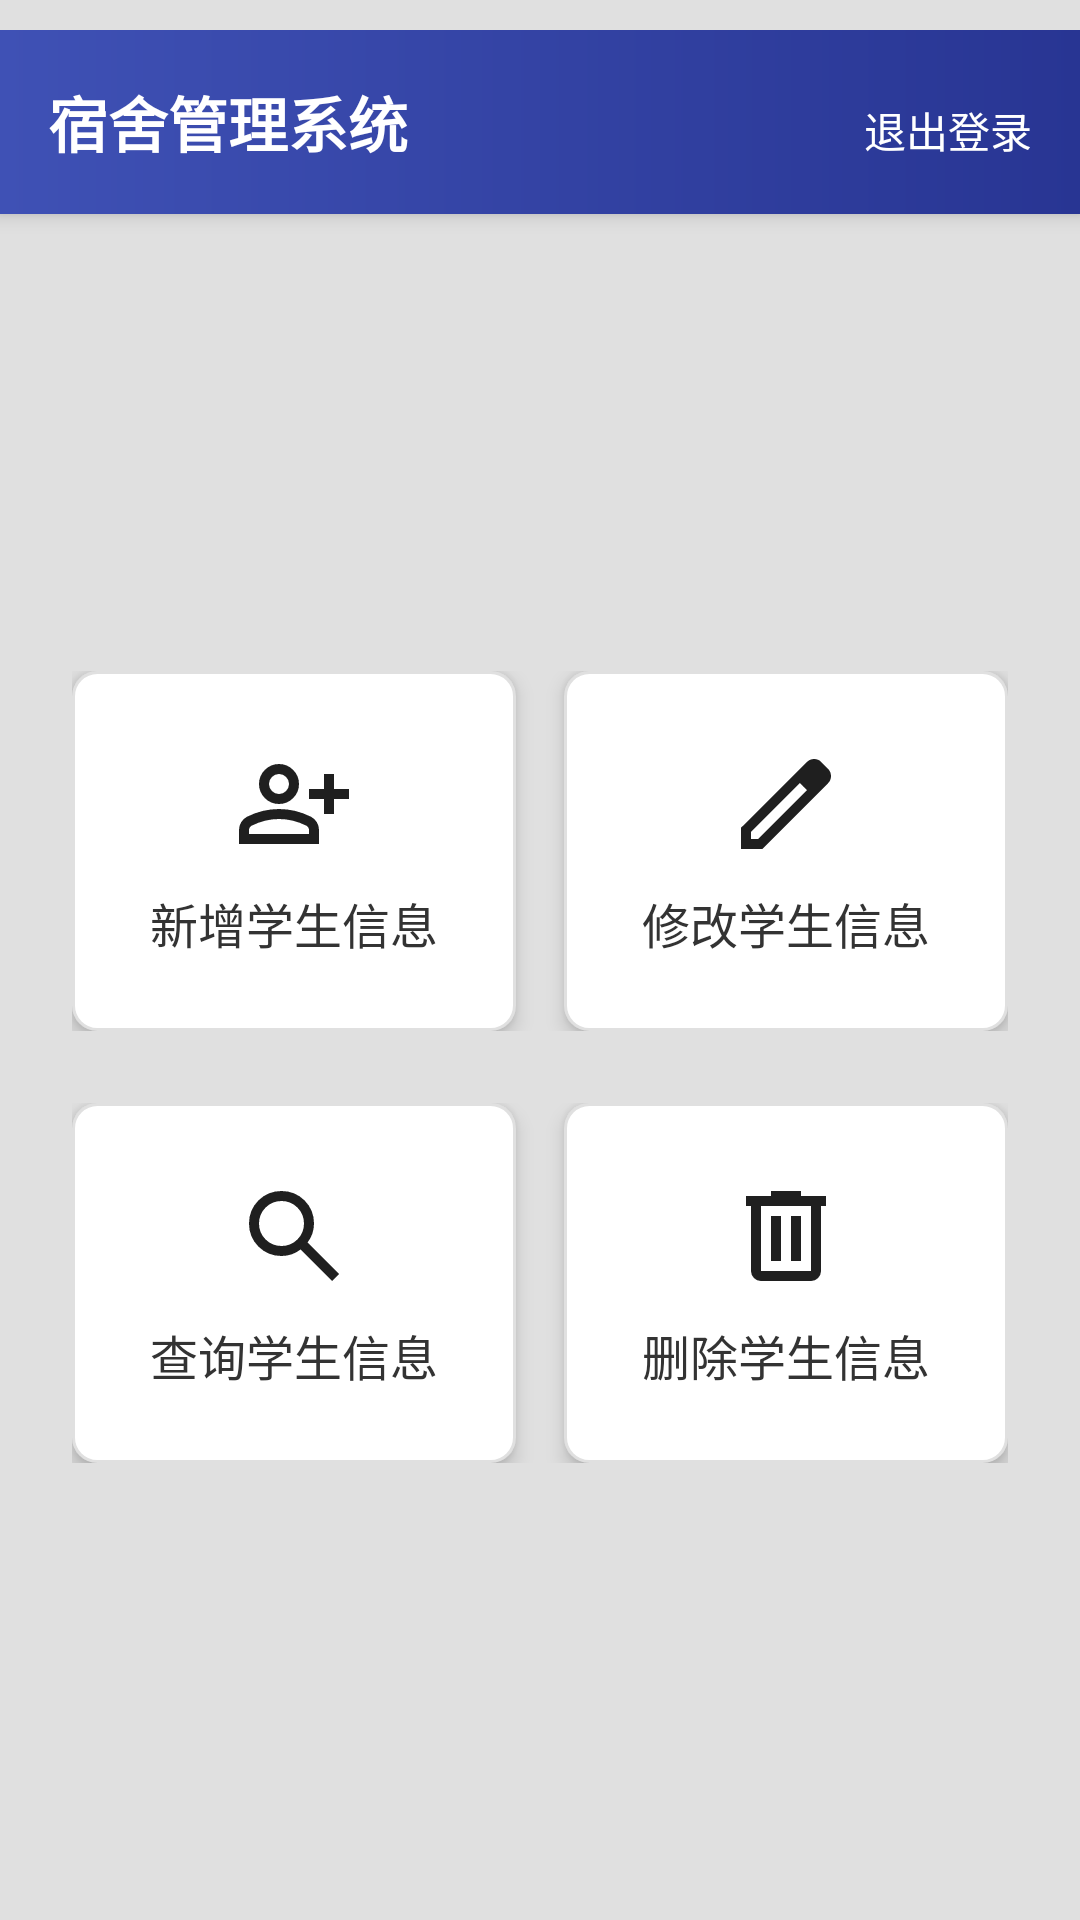

Named icons in this screenshot (1080×1920) and their centers, (x=x, y=y):
add user: (x=294, y=804)
delete user: (x=786, y=1236)
edit user: (x=786, y=804)
search user: (x=294, y=1236)
